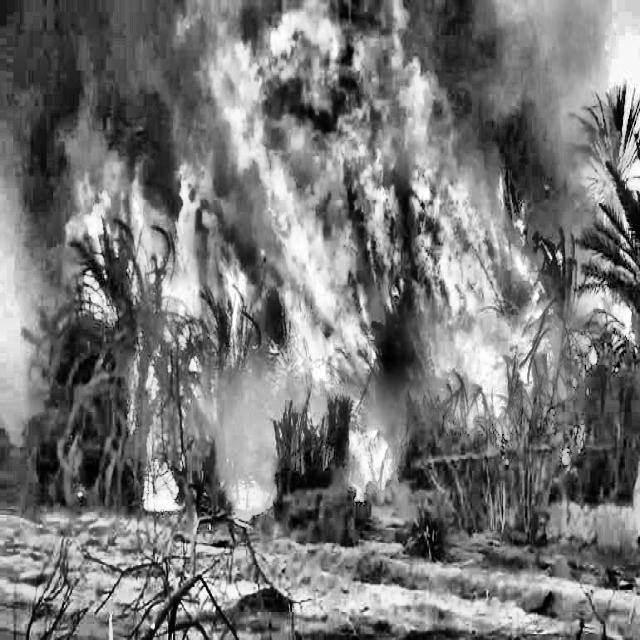fire: (39, 4, 574, 536)
